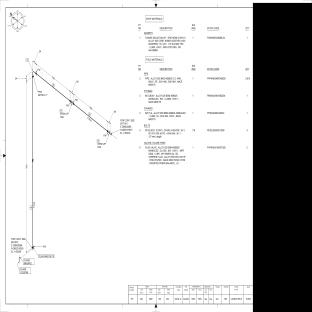elbow: (33, 71, 36, 77)
